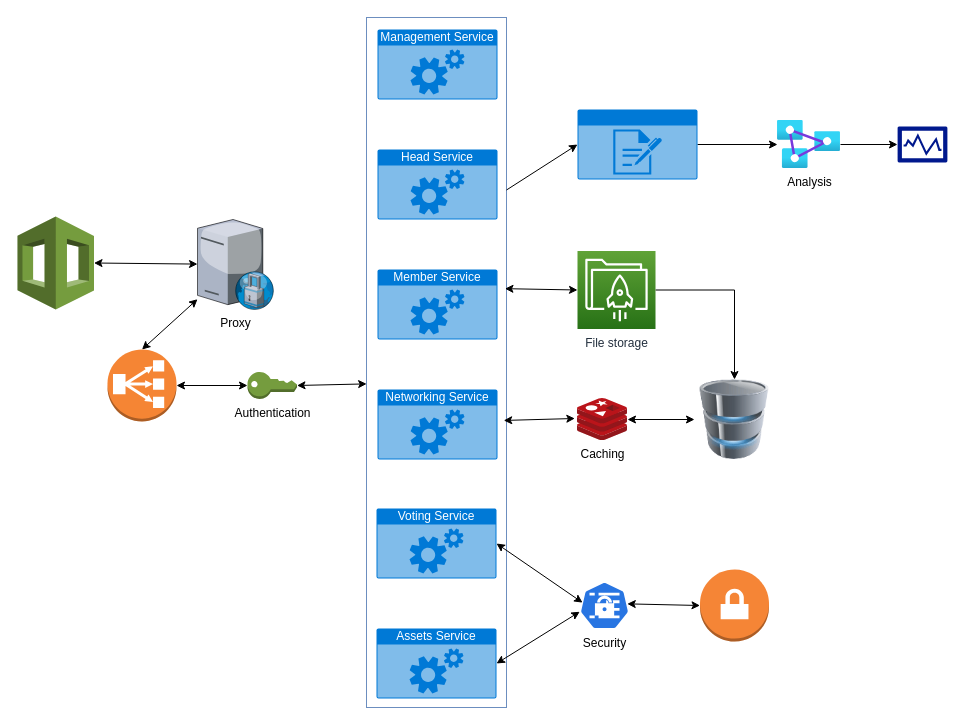
Some shapes in this 965 by 725 pixel diagram are drawn without their labels. The shapes that lost their labels are listed below. From the top down, each one's centre as x and y in pixels, then its label:
At point (637, 144): "Log".
At point (922, 144): "Monitor".
At point (55, 263): "Web App UI".
At point (141, 385): "Load Balancer".
At point (734, 419): "Database".
At point (734, 605): "Gateway".
